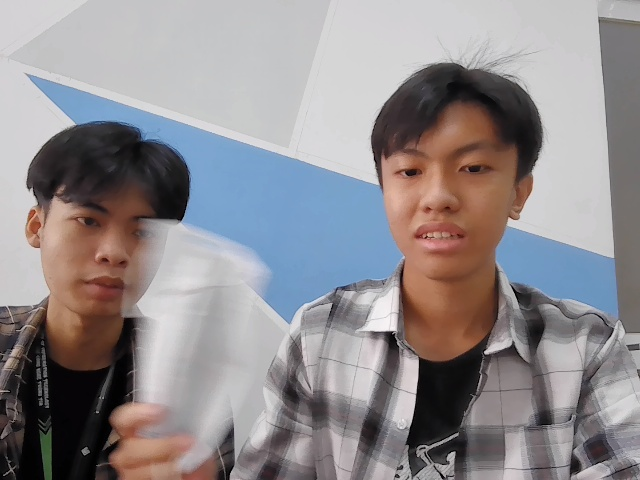human: (365, 56, 552, 274), (27, 117, 176, 312)
